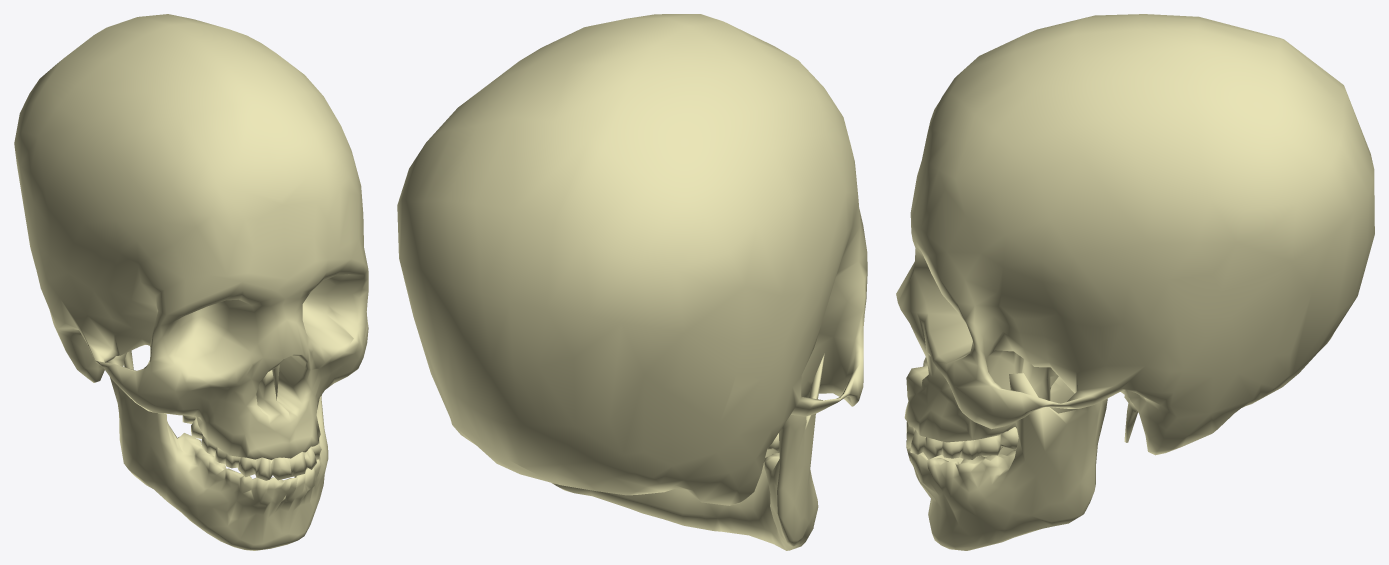
The model's file is Skull_LOD1.fbx.
The picture shows the model from 3 angles, left to right: view 1: azimuth 30°, elevation 25°; view 2: azimuth 150°, elevation 25°; view 3: azimuth 270°, elevation 25°; orthographic projection. The views are drawn at different scales.
Parts seen in each view (by area): view 1: Dientes.002; view 2: Dientes.002; view 3: Dientes.002.
Boxes of the visible parts, <box> form: Dientes.002: <box>14,14,368,550</box>; Dientes.002: <box>397,14,867,550</box>; Dientes.002: <box>896,14,1374,550</box>.
Size of the model in its own units: 477 by 728 by 619.
